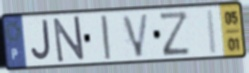I: (99, 13, 113, 62), (205, 8, 219, 57)
J: (29, 19, 53, 64)
N: (51, 14, 86, 65)
V: (121, 12, 151, 60)
Z: (157, 9, 192, 58)
